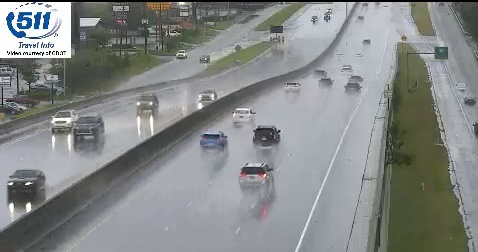car: (239, 162, 272, 187), (199, 131, 227, 151), (253, 125, 280, 145), (232, 108, 253, 124), (345, 81, 361, 94), (284, 81, 300, 92), (318, 77, 332, 88)
